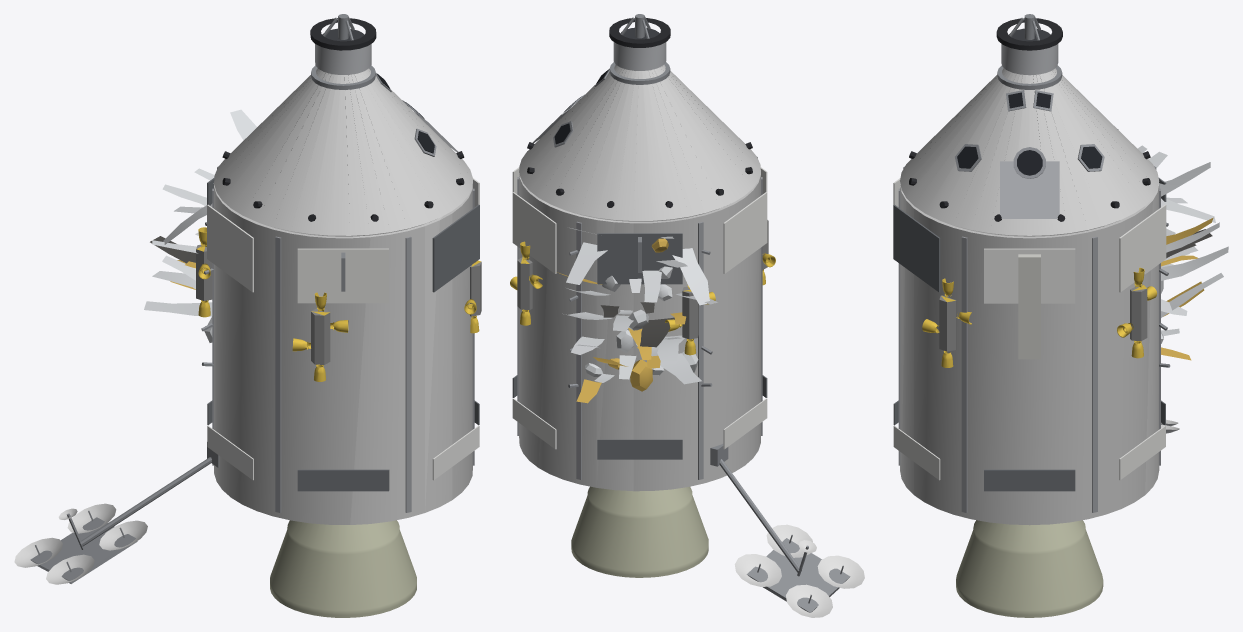
File: apollo-csm.glb
3 views of the same model, side by side, from view 1: azimuth 30°, elevation 25°; view 2: azimuth 150°, elevation 25°; view 3: azimuth 270°, elevation 25° (orthographic). The views are drawn at different scales.
Parts seen in each view (by area): view 1: body (×2), foil (×2); view 2: body (×3), foil (×2); view 3: body (×2), foil (×2).
Part boxes in pixels (bbox=[...]): body (×2): bbox=[14, 14, 481, 617]; foil (×2): bbox=[144, 109, 480, 381]; body (×3): bbox=[512, 14, 864, 617]; foil (×2): bbox=[510, 227, 775, 403]; body (×2): bbox=[893, 14, 1179, 617]; foil (×2): bbox=[922, 145, 1228, 367].
Size of the model in its own units: 6.71 by 9.5 by 5.06.
